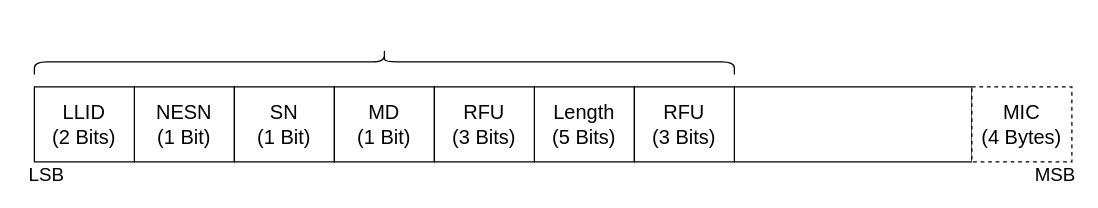
This 1098x208 diagram has some shape labels left out. Each missing label, with the centre of its shape:
"Header (16 Bits)" goes at (383,61).
"Payload (0 ... 27 Bytes)" goes at (852,124).
